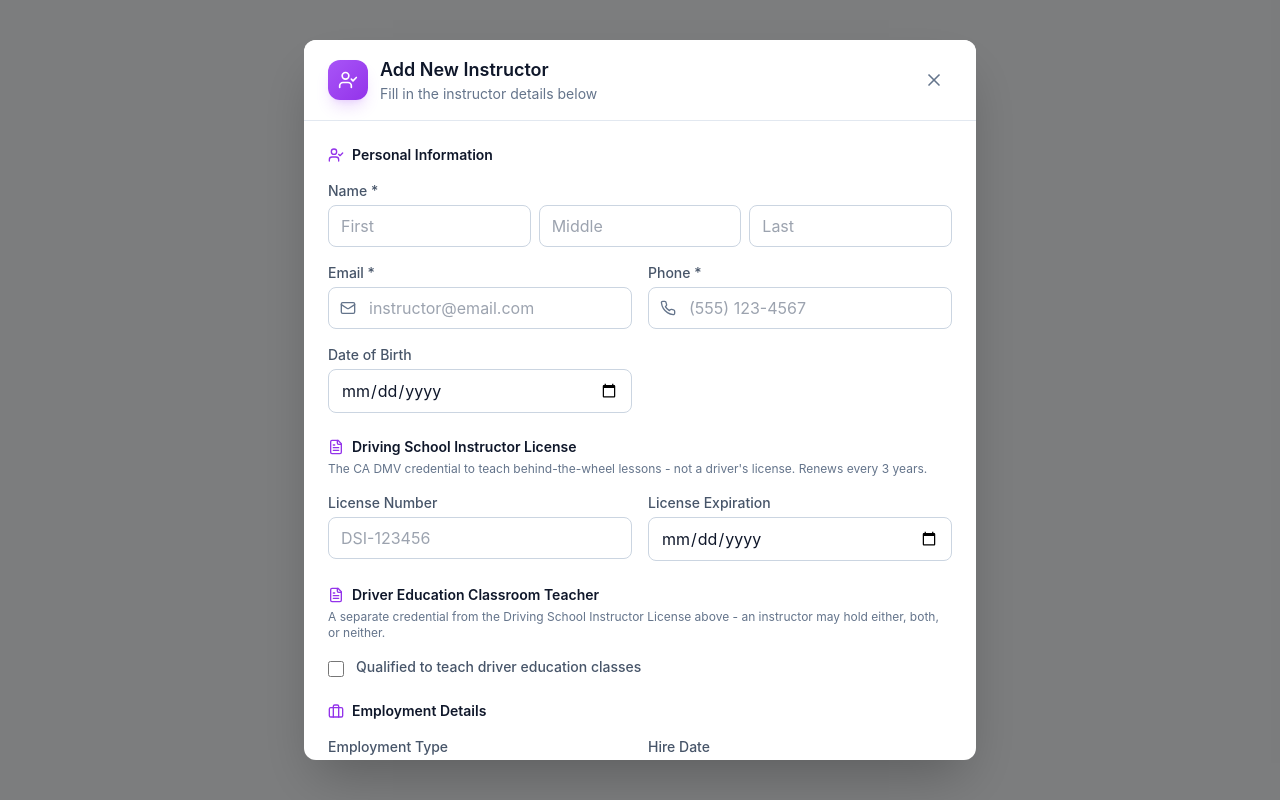
Test case: InstructorModal form fields › formats the phone input as (XXX) XXX-XXXX while typing
Type "5551234567" into the field with placeholder "(555) 123-4567" at point(800, 308), box [648,287,952,329]
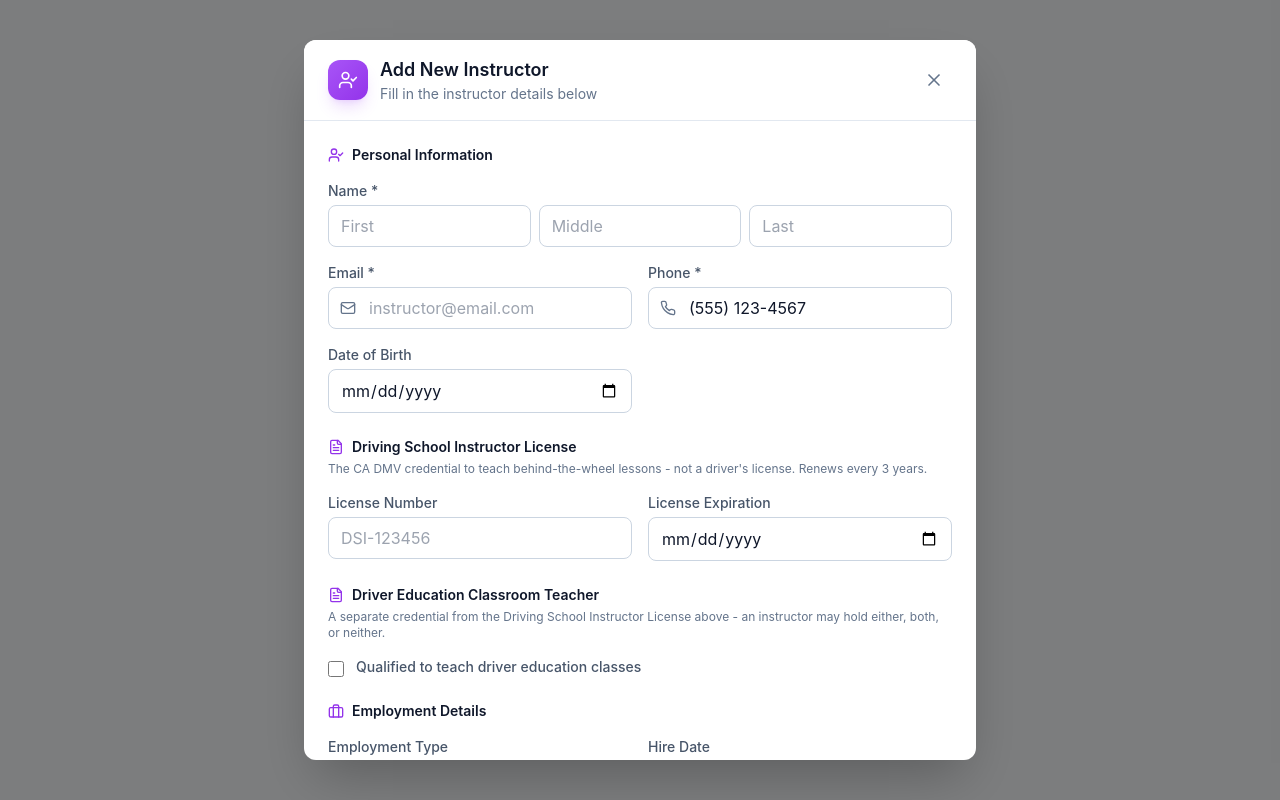
Expected: the field with placeholder "(555) 123-4567" holds "(555) 123-4567", [648,287,952,329]
